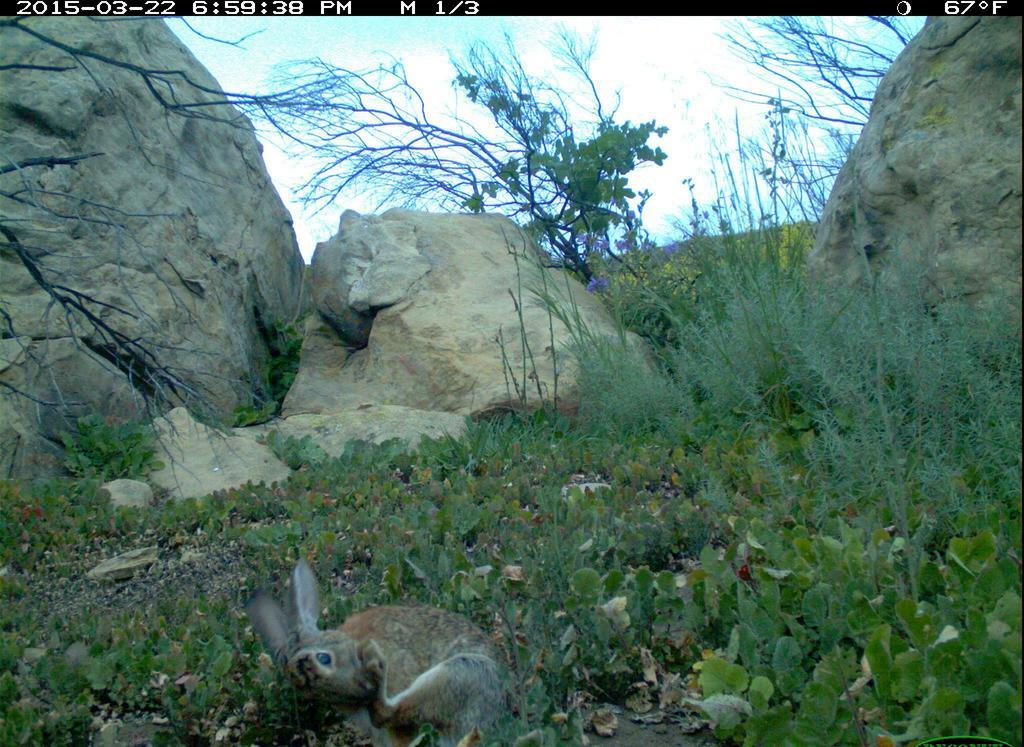rabbit: (230, 542, 527, 747)
